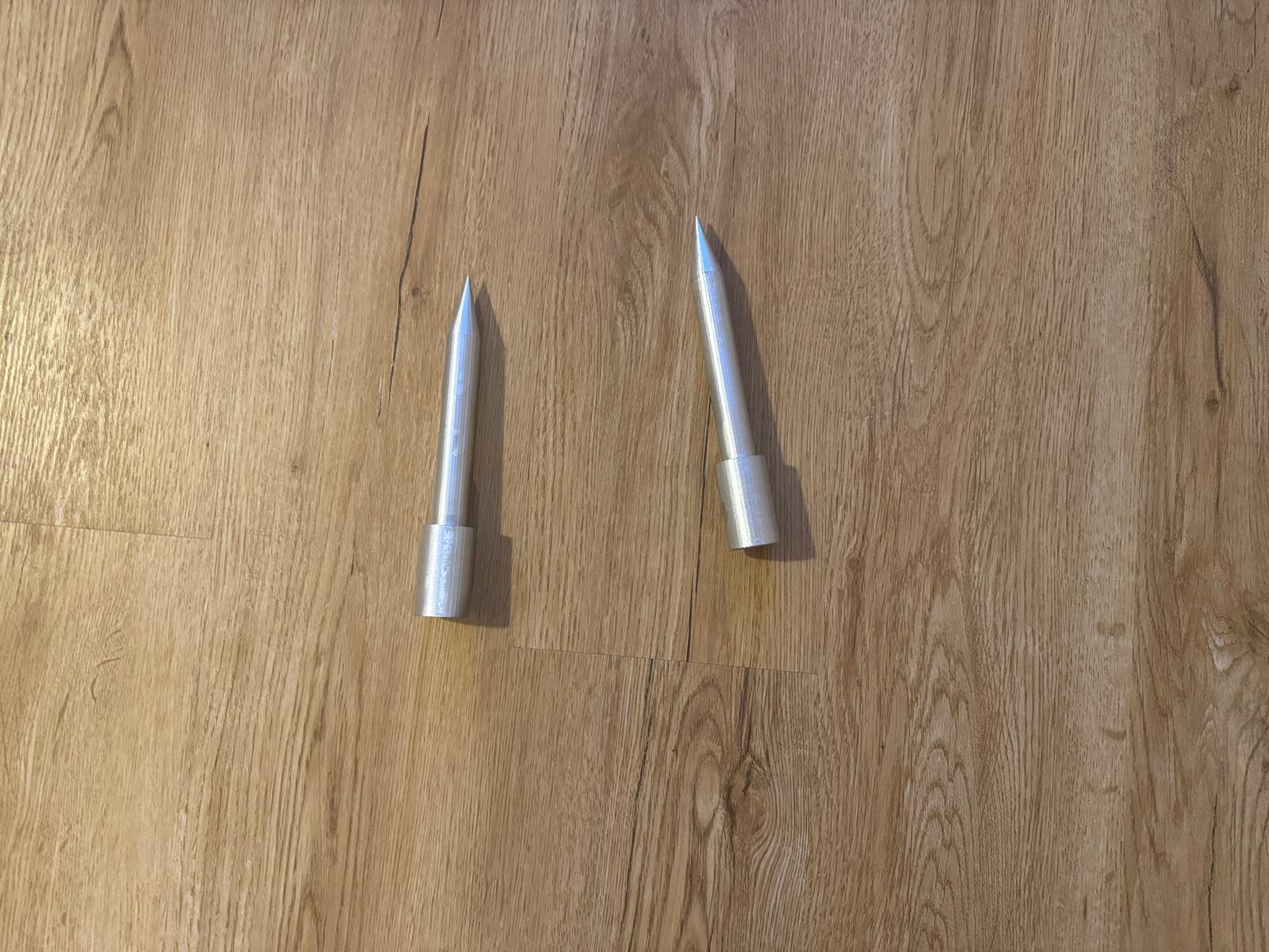probes: (695, 217, 779, 549), (416, 278, 479, 618)
